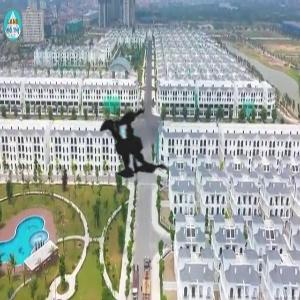drone: (20, 45, 240, 265)
